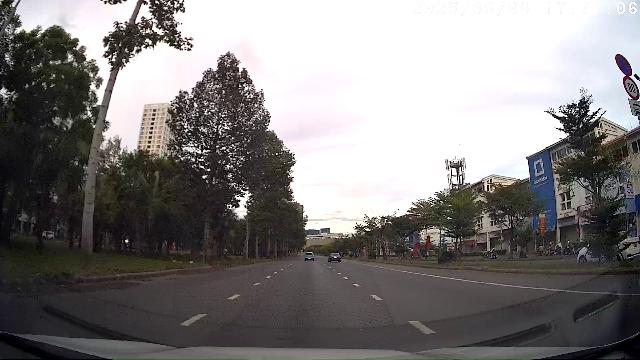127-toc-do-toi-da-80: (623, 77, 639, 99)
130-cam-dung-va-do-xe: (615, 54, 633, 76)
